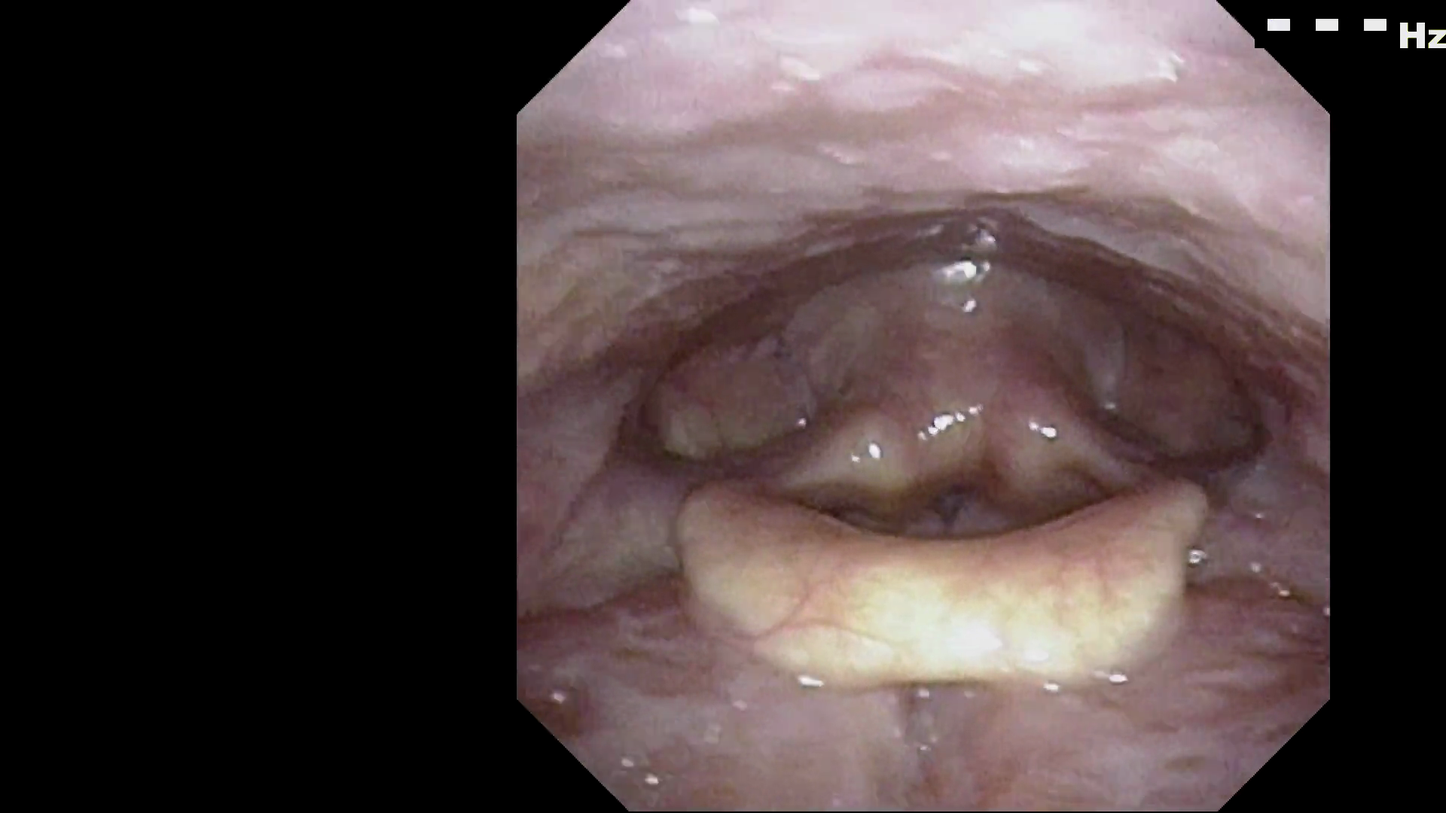epiglottis: (669, 454, 1217, 699)
trachea: (902, 444, 1004, 568)
